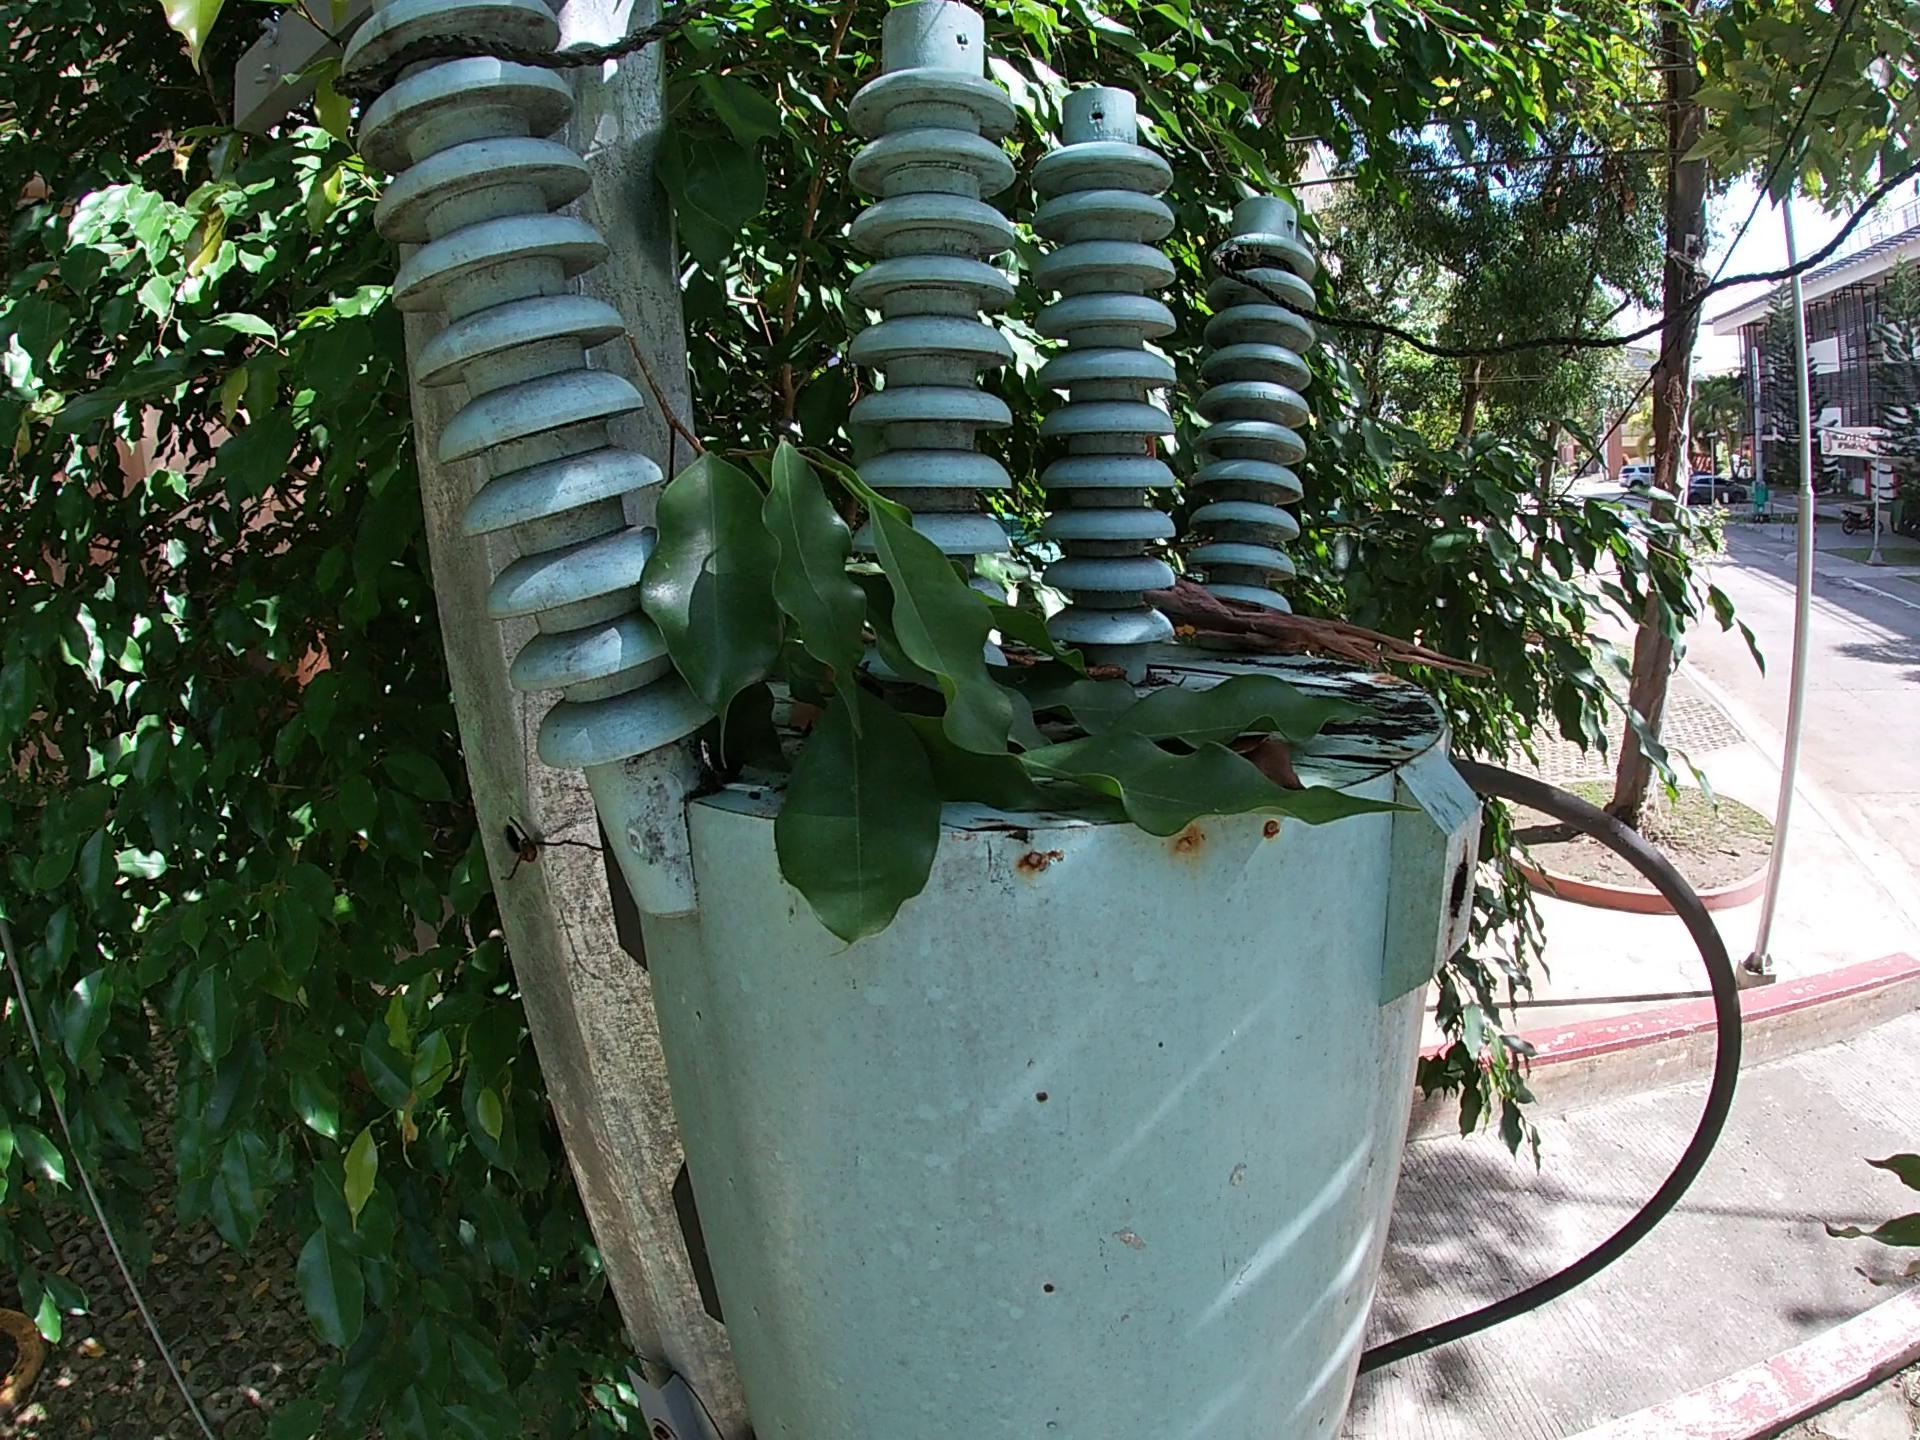branch with leaves: (612, 346, 1451, 936)
mahogany fruit: (1243, 728, 1327, 782), (996, 656, 1134, 687)
tree branch: (1158, 579, 1503, 684), (1161, 658, 1414, 708)
